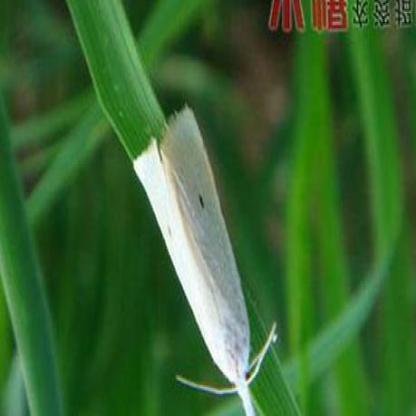stem-borer: (131, 101, 279, 416)
